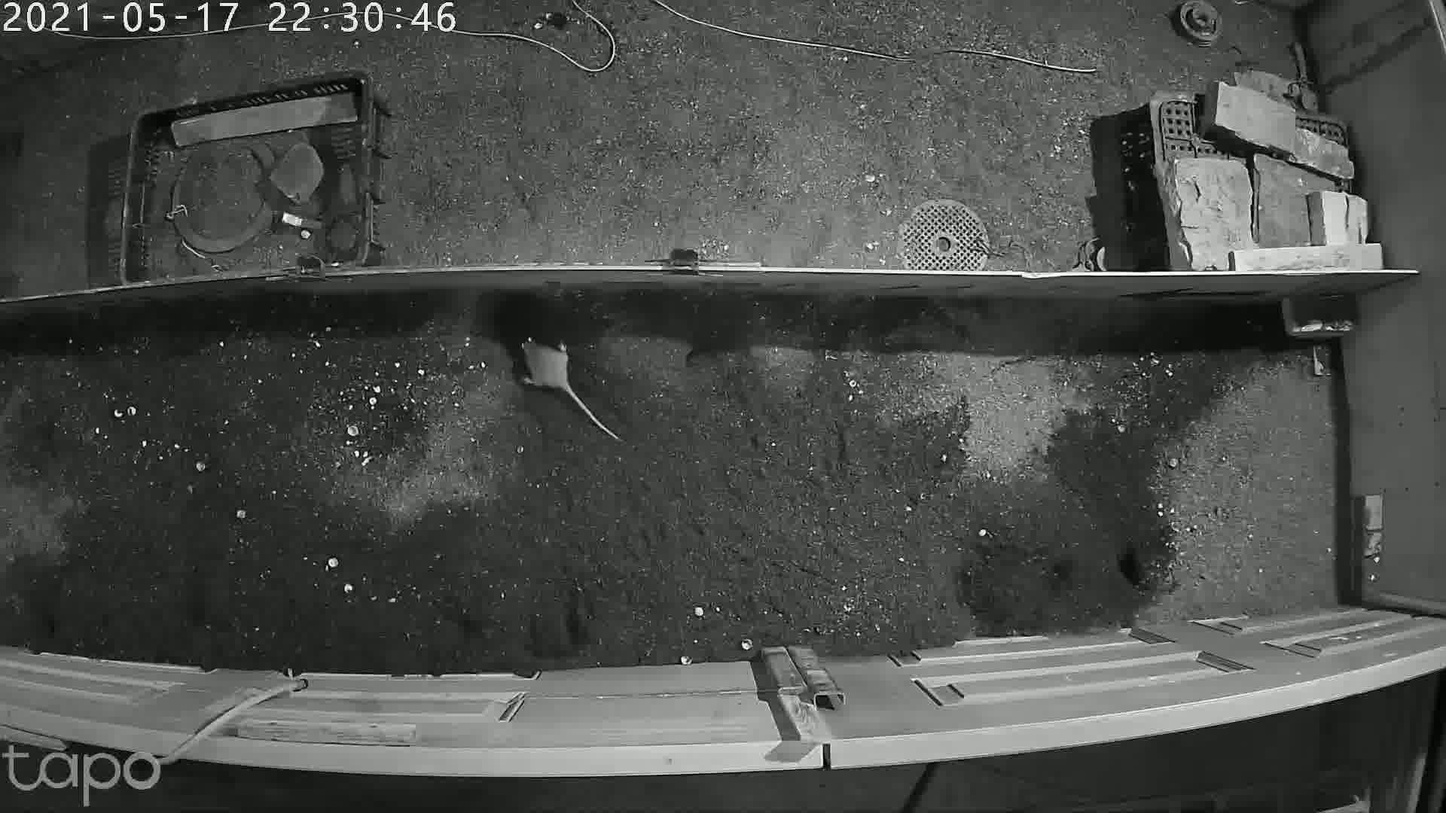rat: (504, 329, 623, 461)
